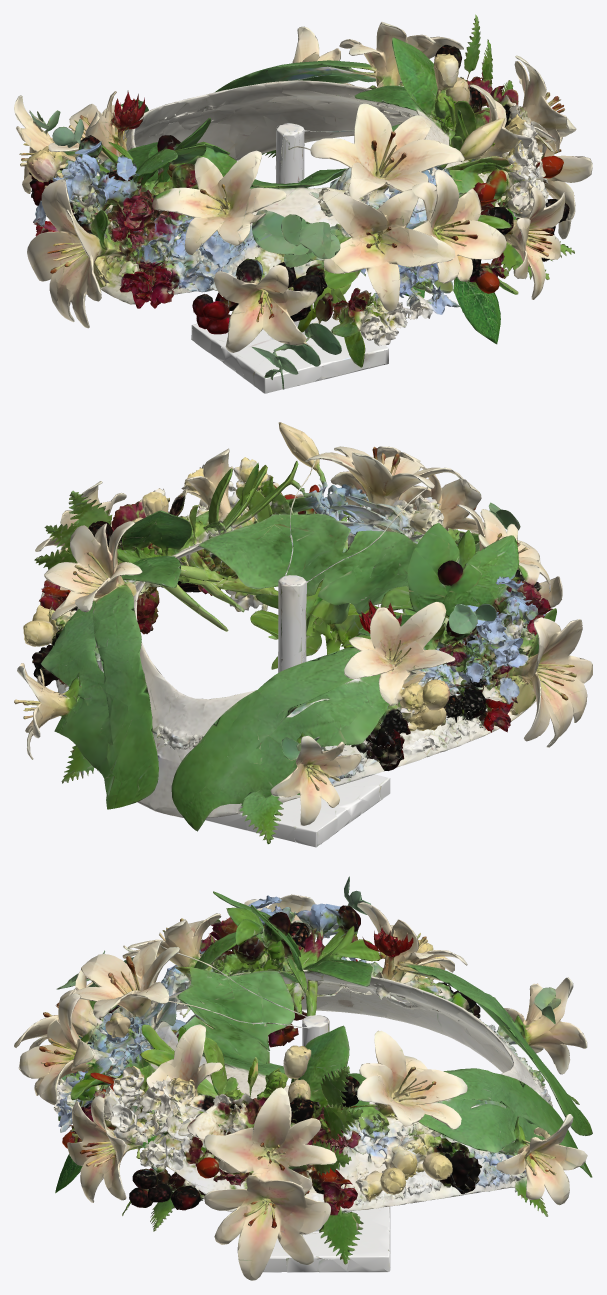
Rendered from LilyHeadDress.glb.
3 views of the same model, one above another, from view 1: azimuth 30°, elevation 25°; view 2: azimuth 150°, elevation 25°; view 3: azimuth 270°, elevation 25° (orthographic).
Size of the model in its own units: 2 by 1.1 by 1.95.
Materials: 1 (1 with a texture image).
